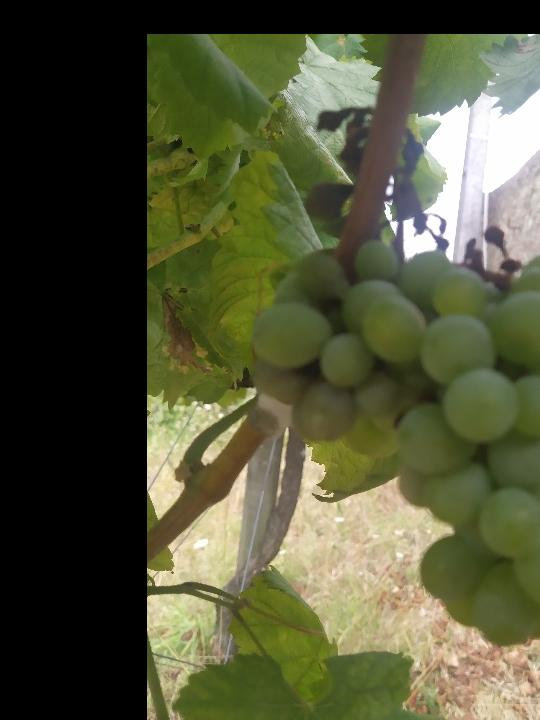grape: (247, 105, 540, 649)
